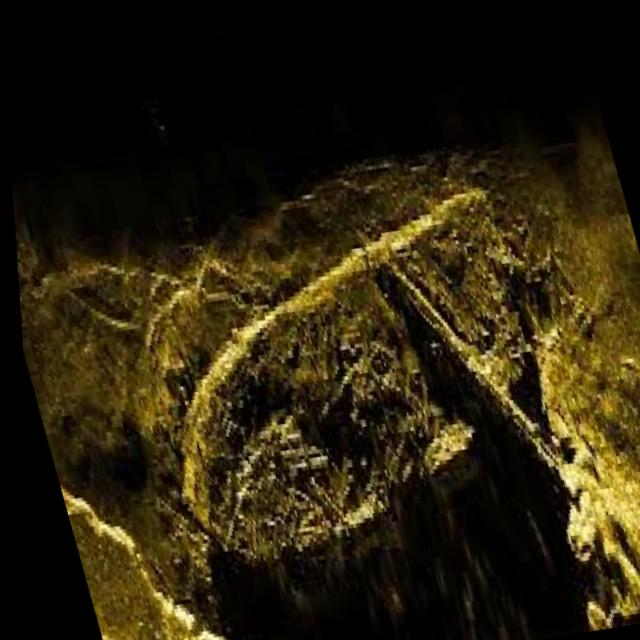shipwreck: (106, 152, 627, 612)
